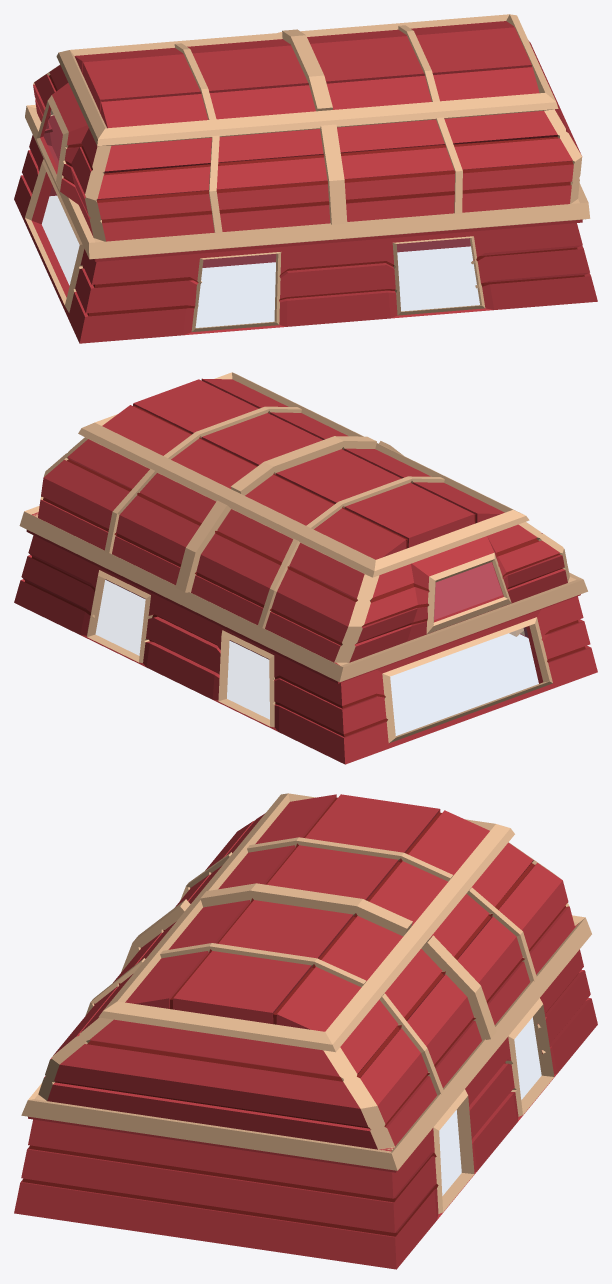
The model's file is House 1 Top.fbx.
3 views of the same model, one above another, from view 1: azimuth 30°, elevation 25°; view 2: azimuth 150°, elevation 25°; view 3: azimuth 270°, elevation 25° (orthographic). The views are drawn at different scales.
Parts seen in each view (by area): view 1: House 1 Top; view 2: House 1 Top; view 3: House 1 Top.
Boxes of the visible parts, x1,y1,x2,y2 form: House 1 Top: (14,14,597,343); House 1 Top: (14,372,597,764); House 1 Top: (14,793,597,1269).
Size of the model in its own units: 996 by 347 by 816.
